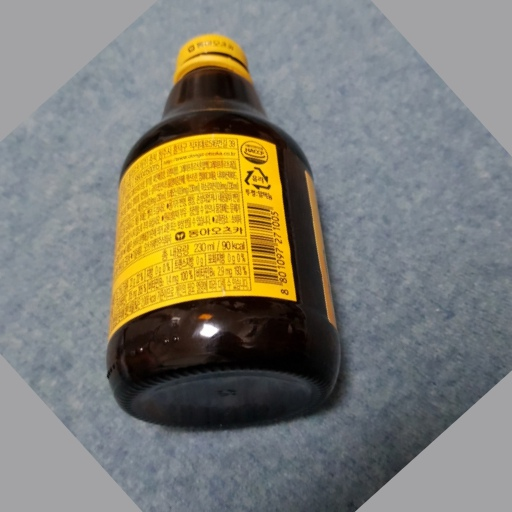Glass_3: (105, 32, 344, 427)
